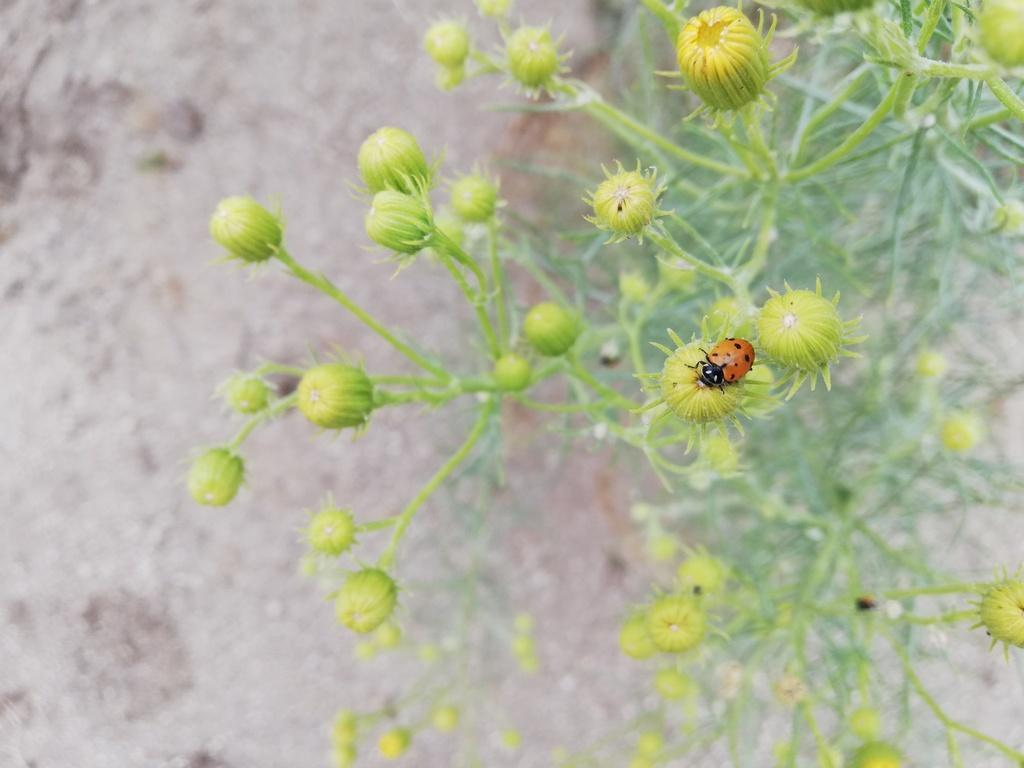ladybug: (684, 336, 758, 397)
